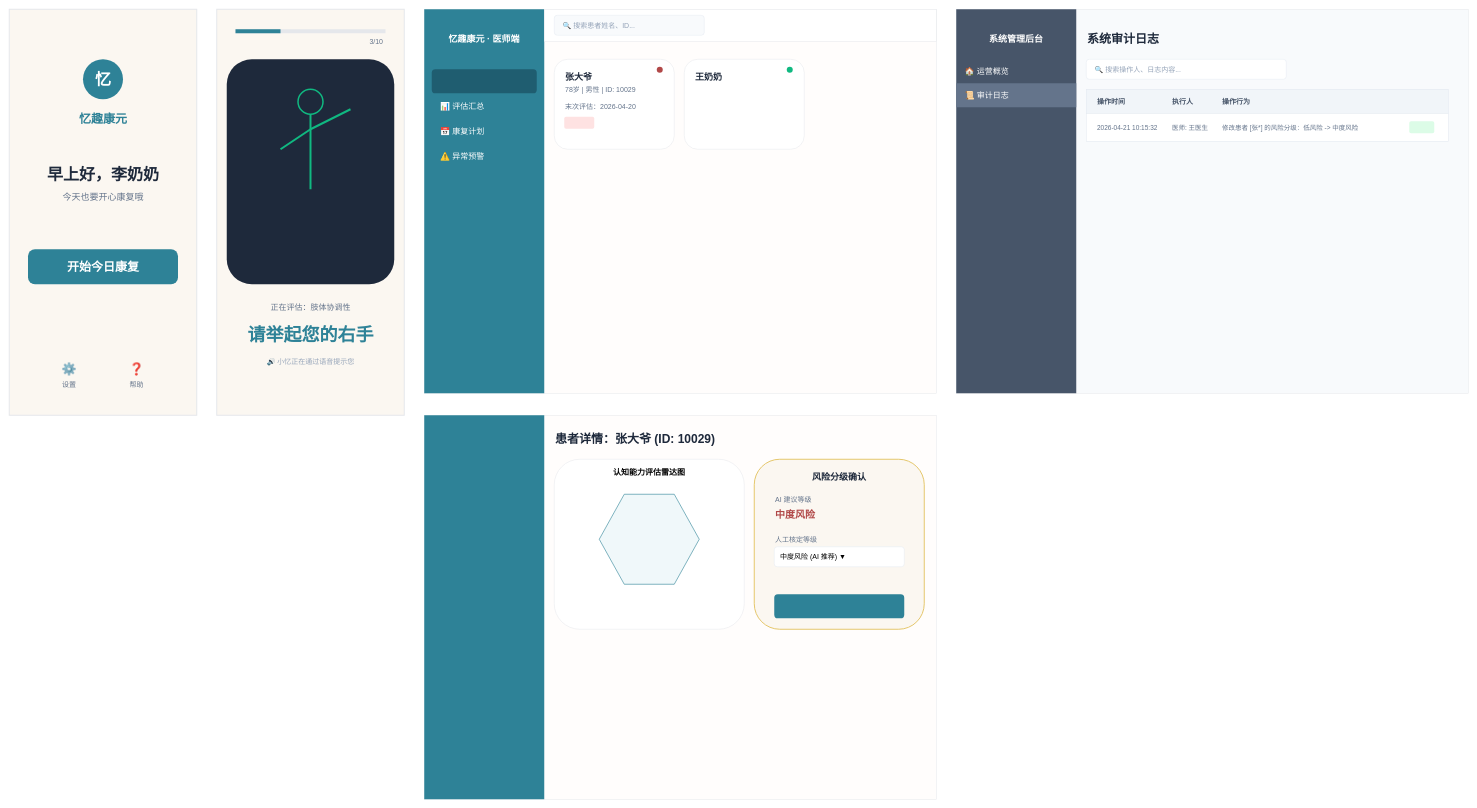
The diagram is 1477 pixels wide and 808 high, and some of its shapes have lost their labels. The centre of each missing label's shape, as x and y in pixels:
"保存并同步计划" goes at pixel 839 606.
"成功" goes at pixel 1421 127.
"高风险" goes at pixel 579 122.
"👥 患者列表" goes at pixel 484 81.
